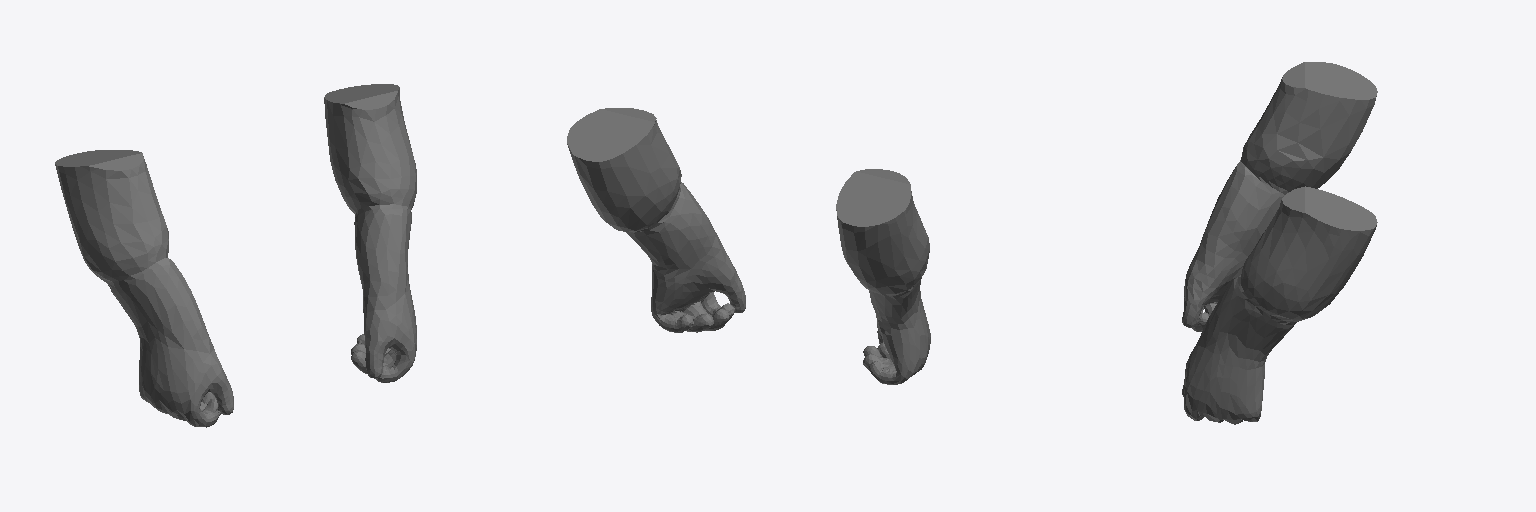
The model's file is GTR_Driver3SmoothHands.obj.
3 renders of one model, left to right at view 1: azimuth 30°, elevation 25°; view 2: azimuth 150°, elevation 25°; view 3: azimuth 270°, elevation 25°, orthographic.
Parts seen in each view (by area): view 1: Object.2, Object.1; view 2: Object.1, Object.2; view 3: Object.1, Object.2.
Part boxes in pixels (bbox=[...]): Object.2: bbox=[55, 150, 233, 427]; Object.1: bbox=[324, 84, 416, 382]; Object.1: bbox=[567, 108, 745, 332]; Object.2: bbox=[836, 169, 930, 384]; Object.1: bbox=[1182, 186, 1377, 424]; Object.2: bbox=[1182, 62, 1377, 331].
Size of the model in its own units: 12.85 by 8.7 by 6.51.